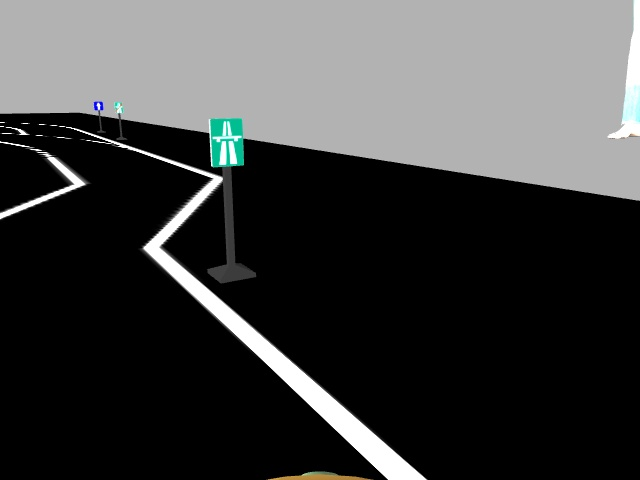HighwayEntrance: (206, 116, 244, 165)
